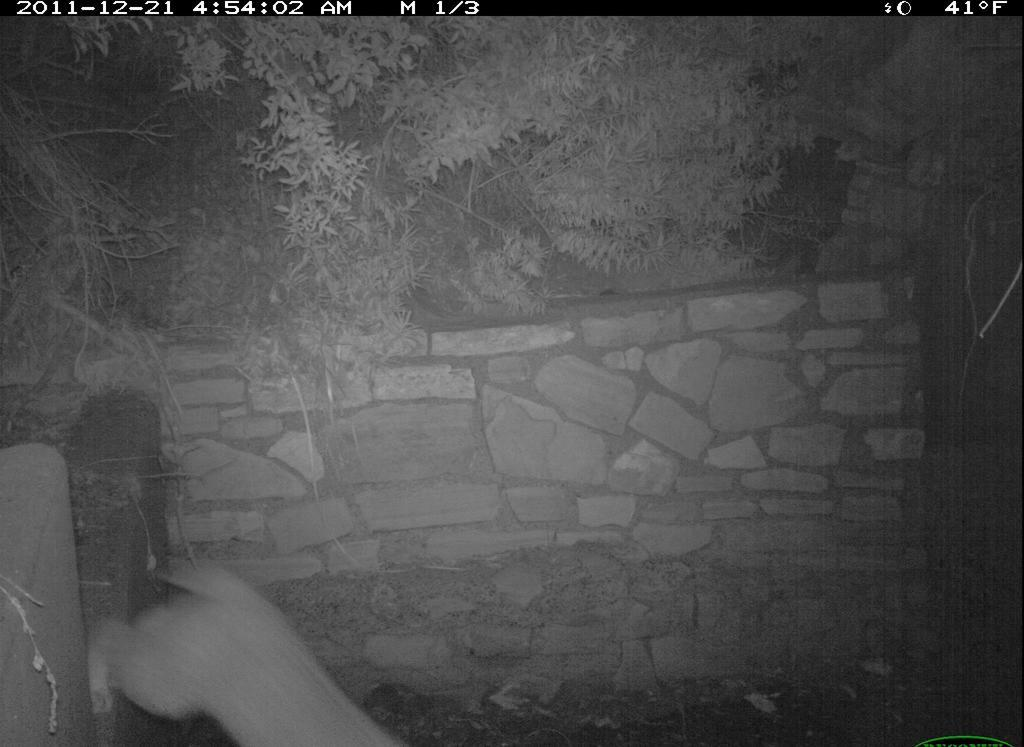bobcat: (80, 548, 390, 738)
